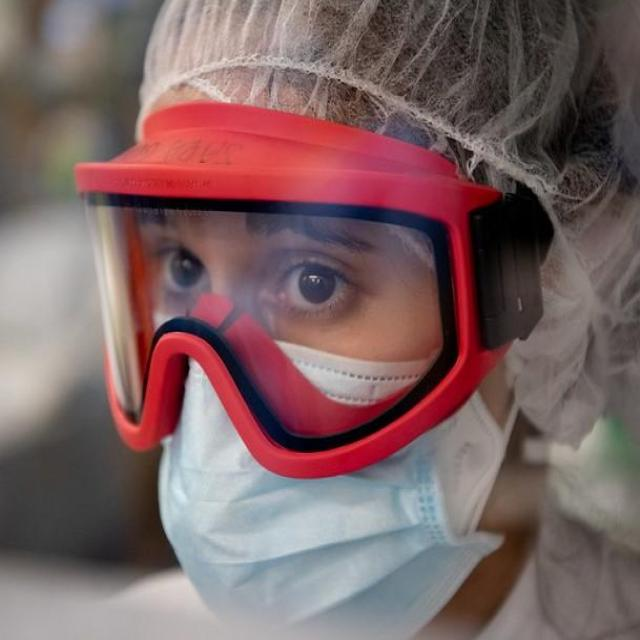Goggles: (72, 90, 512, 483)
Mask: (156, 332, 464, 626)
